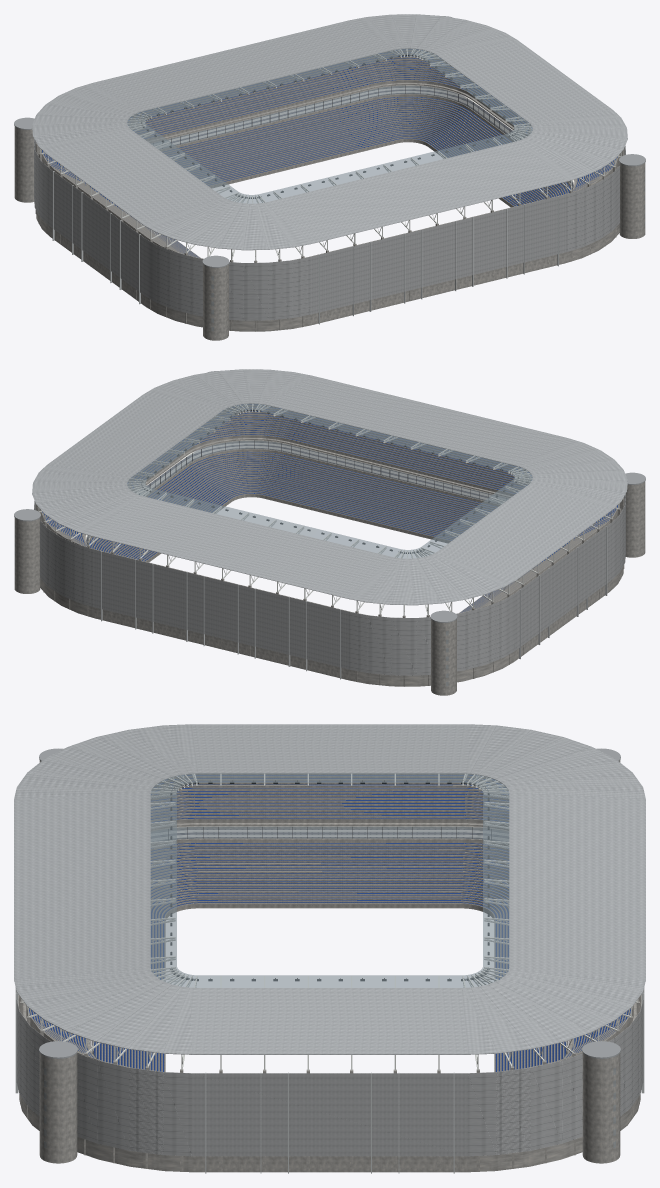
Rendered from stadium_bowl_V1_1k.glb.
3 renders of one model, top to bottom at view 1: azimuth 30°, elevation 25°; view 2: azimuth 150°, elevation 25°; view 3: azimuth 270°, elevation 25°, orthographic. The views are drawn at different scales.
Parts seen in each view (by area): view 1: Roof, Facade screen, Lower tier, Upper tier, Roof translucent edge, Concourse, Stair cores, Roof trusses, Hospitality boxes, Hospitality glass, Screen fins; view 2: Roof, Facade screen, Lower tier, Upper tier, Roof translucent edge, Concourse, Stair cores, Roof trusses, Hospitality boxes, Hospitality glass, Screen fins; view 3: Roof, Facade screen, Lower tier, Roof translucent edge, Upper tier, Concourse, Stair cores, Roof trusses, Hospitality glass, Hospitality boxes, Screen fins, Floodlights.
Boxes of the visible parts, left/top/right/bottom form: Roof: left=32, top=14, right=627, bottom=250; Facade screen: left=34, top=139, right=625, bottom=320; Lower tier: left=90, top=94, right=572, bottom=258; Upper tier: left=41, top=49, right=619, bottom=262; Roof translucent edge: left=127, top=48, right=532, bottom=203; Concourse: left=36, top=85, right=619, bottom=331; Stair cores: left=14, top=16, right=645, bottom=340; Roof trusses: left=35, top=49, right=624, bottom=331; Hospitality boxes: left=88, top=83, right=576, bottom=190; Hospitality glass: left=89, top=85, right=573, bottom=189; Screen fins: left=52, top=171, right=558, bottom=324; Roof: left=32, top=369, right=627, bottom=605; Facade screen: left=34, top=494, right=625, bottom=675; Lower tier: left=87, top=449, right=569, bottom=613; Upper tier: left=40, top=404, right=618, bottom=617; Roof translucent edge: left=127, top=403, right=532, bottom=558; Concourse: left=40, top=440, right=623, bottom=686; Stair cores: left=14, top=371, right=645, bottom=695; Roof trusses: left=35, top=404, right=624, bottom=686; Hospitality boxes: left=83, top=438, right=571, bottom=545; Hospitality glass: left=86, top=440, right=570, bottom=544; Screen fins: left=101, top=526, right=607, bottom=679; Roof: left=14, top=724, right=645, bottom=1054; Facade screen: left=16, top=992, right=643, bottom=1156; Lower tier: left=93, top=838, right=566, bottom=1071; Roof translucent edge: left=150, top=773, right=509, bottom=987; Upper tier: left=26, top=774, right=633, bottom=1073; Concourse: left=18, top=826, right=641, bottom=1172; Stair cores: left=39, top=748, right=620, bottom=1163; Roof trusses: left=19, top=773, right=640, bottom=1172; Hospitality glass: left=92, top=826, right=567, bottom=1058; Hospitality boxes: left=87, top=823, right=572, bottom=1058; Screen fins: left=15, top=988, right=644, bottom=1173; Floodlights: left=170, top=780, right=489, bottom=980.
Bounding box in the file's own units: 209 × 38.47 × 169.
Materials: 14 (14 with a texture image).
